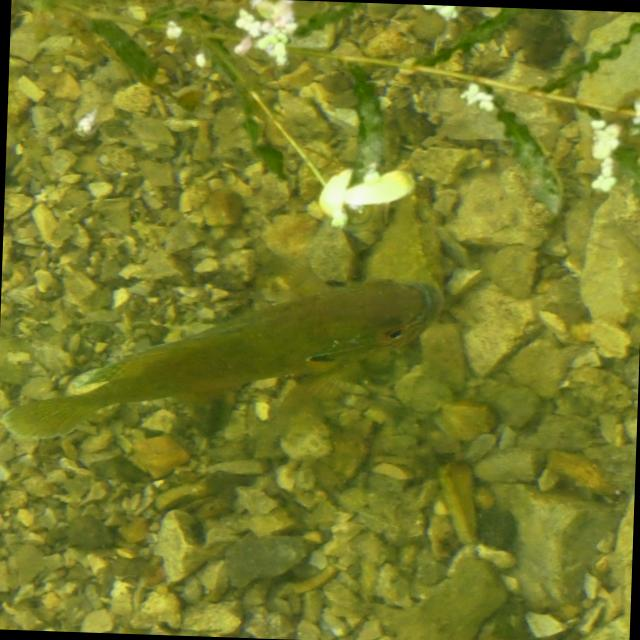Gunes Levregi: (0, 261, 446, 456)
